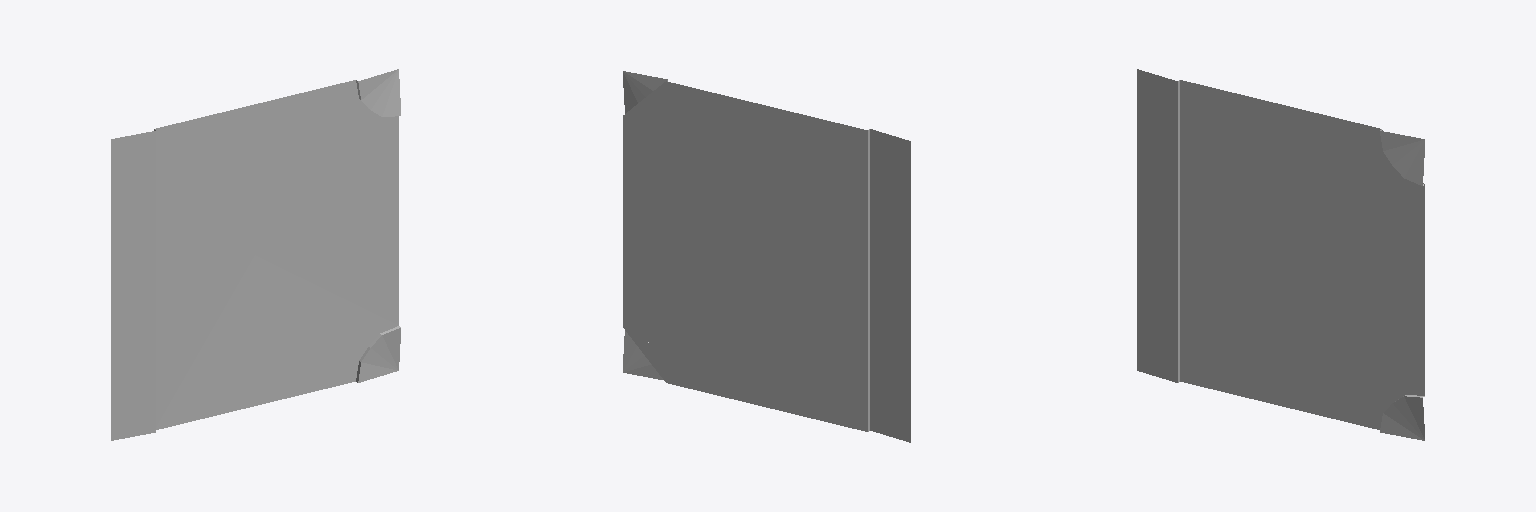
File: igs_road_3_way.obj
3 renders of one model, left to right at view 1: azimuth 30°, elevation 25°; view 2: azimuth 150°, elevation 25°; view 3: azimuth 330°, elevation 25°, orthographic.
Bounding box in the file's own units: 1 × 1 × 0.015.